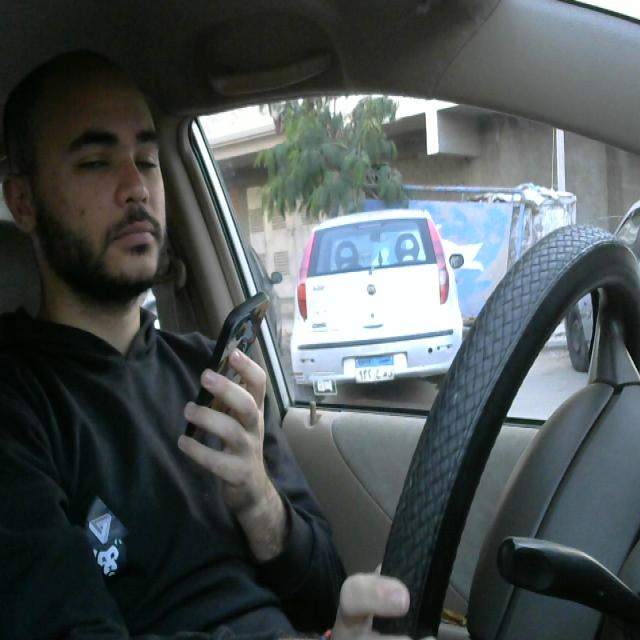mobile use: (178, 284, 276, 486)
